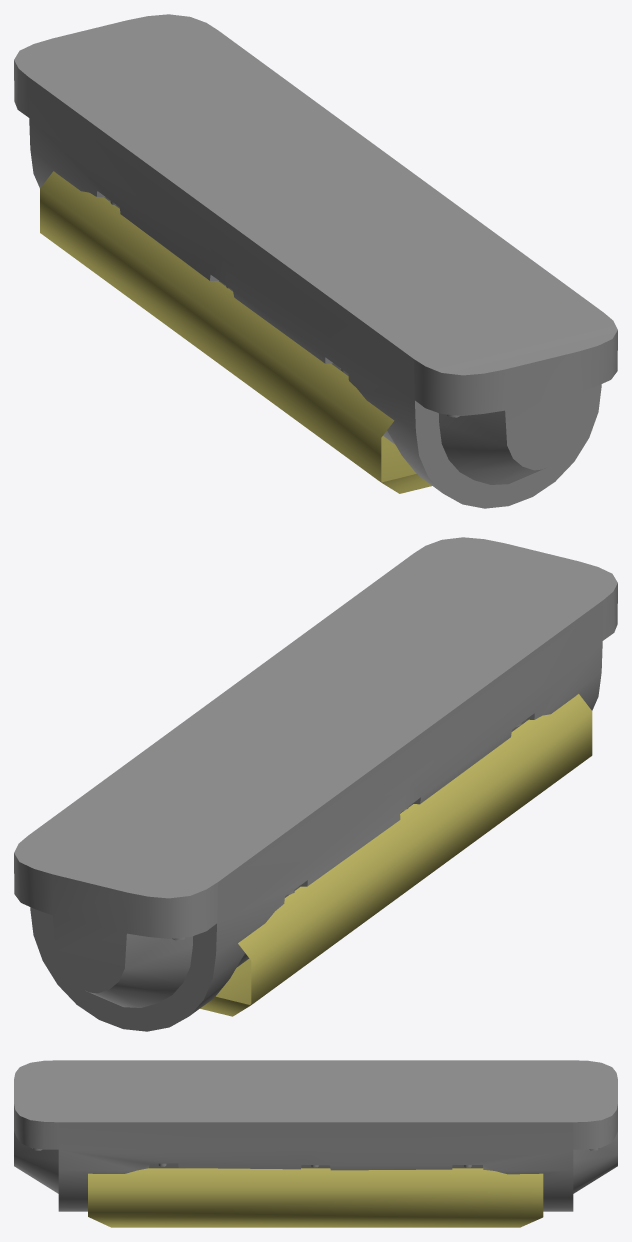
The model's file is Lamp_Small_Red_Scifi_A.fbx.
3 views of the same model, one above another, from view 1: azimuth 30°, elevation 25°; view 2: azimuth 150°, elevation 25°; view 3: azimuth 270°, elevation 25° (orthographic). The views are drawn at different scales.
Visible parts, largest first — view 1: Geom_Lamp_Small_Red_Scifi_A_Body_LOD00, Geom_Lamp_Small_Red_Scifi_A_Emissive_GI; view 2: Geom_Lamp_Small_Red_Scifi_A_Body_LOD00, Geom_Lamp_Small_Red_Scifi_A_Emissive_GI; view 3: Geom_Lamp_Small_Red_Scifi_A_Body_LOD00, Geom_Lamp_Small_Red_Scifi_A_Emissive_GI.
Part boxes in pixels (box(x1,y1,x2,y2)): Geom_Lamp_Small_Red_Scifi_A_Body_LOD00: box(14, 14, 617, 508); Geom_Lamp_Small_Red_Scifi_A_Emissive_GI: box(40, 171, 431, 493); Geom_Lamp_Small_Red_Scifi_A_Body_LOD00: box(14, 537, 617, 1031); Geom_Lamp_Small_Red_Scifi_A_Emissive_GI: box(200, 694, 592, 1016); Geom_Lamp_Small_Red_Scifi_A_Body_LOD00: box(14, 1060, 617, 1211); Geom_Lamp_Small_Red_Scifi_A_Emissive_GI: box(88, 1168, 543, 1227).
Size of what is drawn, in the model's own units: 38.03 by 29.34 by 141.
